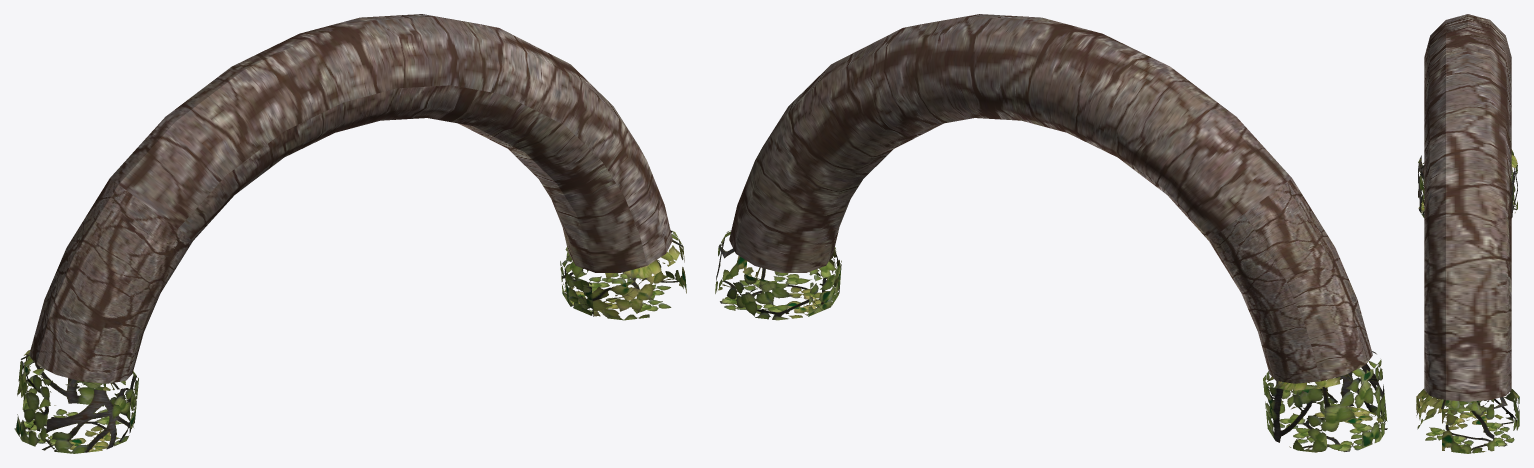
The picture shows the model from 3 angles, left to right: view 1: azimuth 30°, elevation 25°; view 2: azimuth 150°, elevation 25°; view 3: azimuth 270°, elevation 25°; orthographic projection. The views are drawn at different scales.
Parts seen in each view (by area): view 1: Tube_L_B180; view 2: Tube_L_B180; view 3: Tube_L_B180.
Boxes of the visible parts, x1,y1,x2,y2 form: Tube_L_B180: [14, 14, 686, 453]; Tube_L_B180: [715, 14, 1387, 452]; Tube_L_B180: [1416, 14, 1519, 453].
Bounding box in the file's own units: 4.07 × 0.6677 × 1.98.
